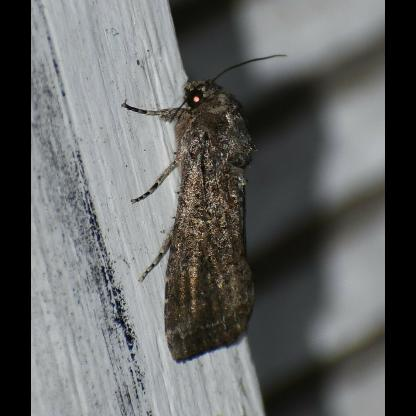Fall Armyworm Moth: (120, 52, 290, 366)
